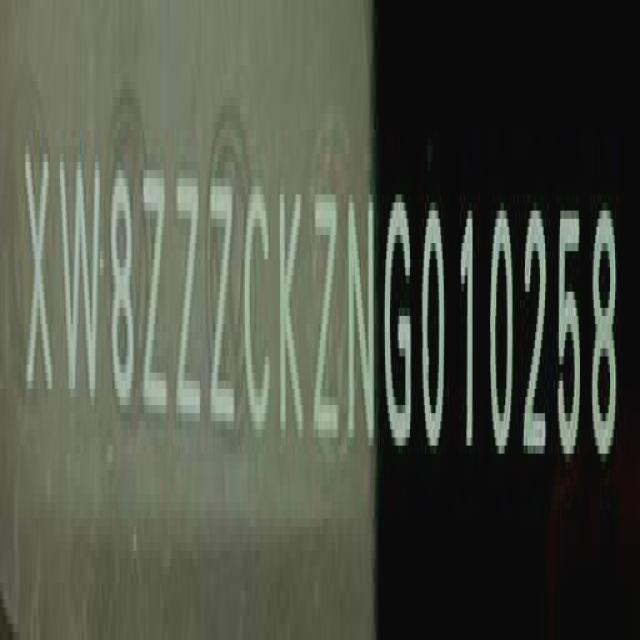0: (419, 186, 448, 458), (488, 193, 515, 462)
1: (461, 191, 481, 463)
2: (524, 199, 550, 467)
5: (557, 193, 581, 464)
8: (593, 202, 621, 464), (111, 160, 137, 421)
C: (244, 172, 274, 446)
G: (387, 182, 417, 461)
K: (278, 172, 307, 450)
N: (345, 181, 377, 463)
W: (57, 132, 103, 417)
X: (25, 131, 54, 413)
Z: (313, 172, 342, 454), (177, 153, 205, 436), (210, 160, 237, 438), (143, 160, 170, 429)
